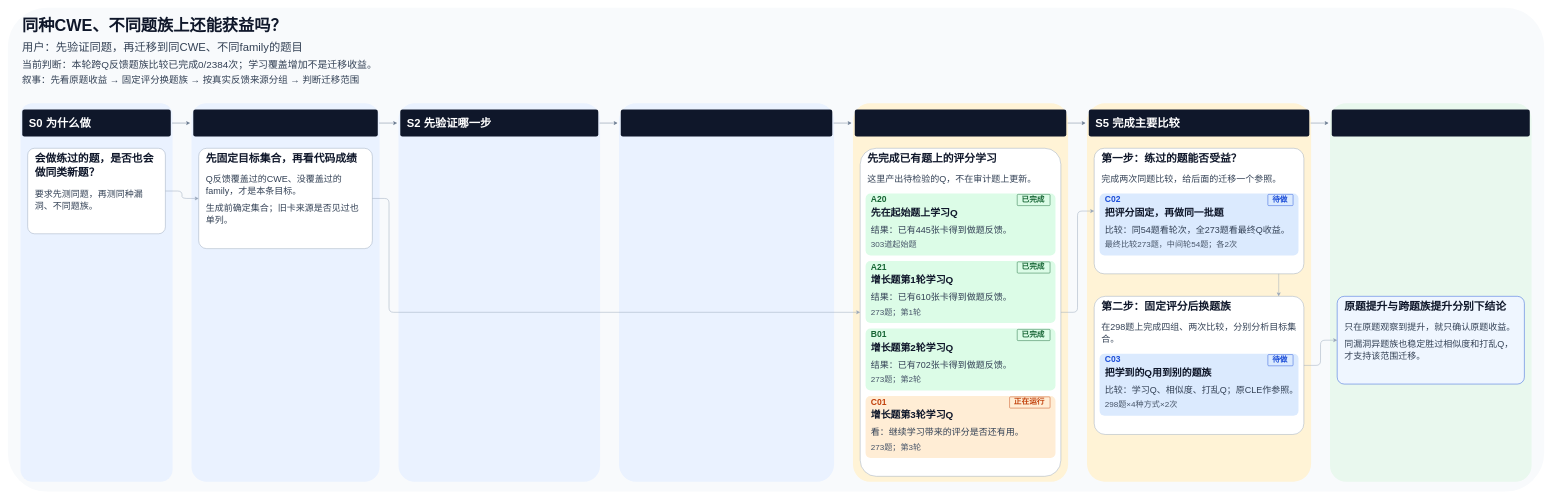
Image size: 1552x499. Some labels were removed from this diagram. Here are the shapes that lost their labels. From the top down, the centre of each, then its label:
At pixel 285 122: "S1 怎样比较".
At pixel 726 122: "S3 小实验与发现".
At pixel 960 122: "S4 继续学习或建方法".
At pixel 1431 122: "S6 结论与下一步".
